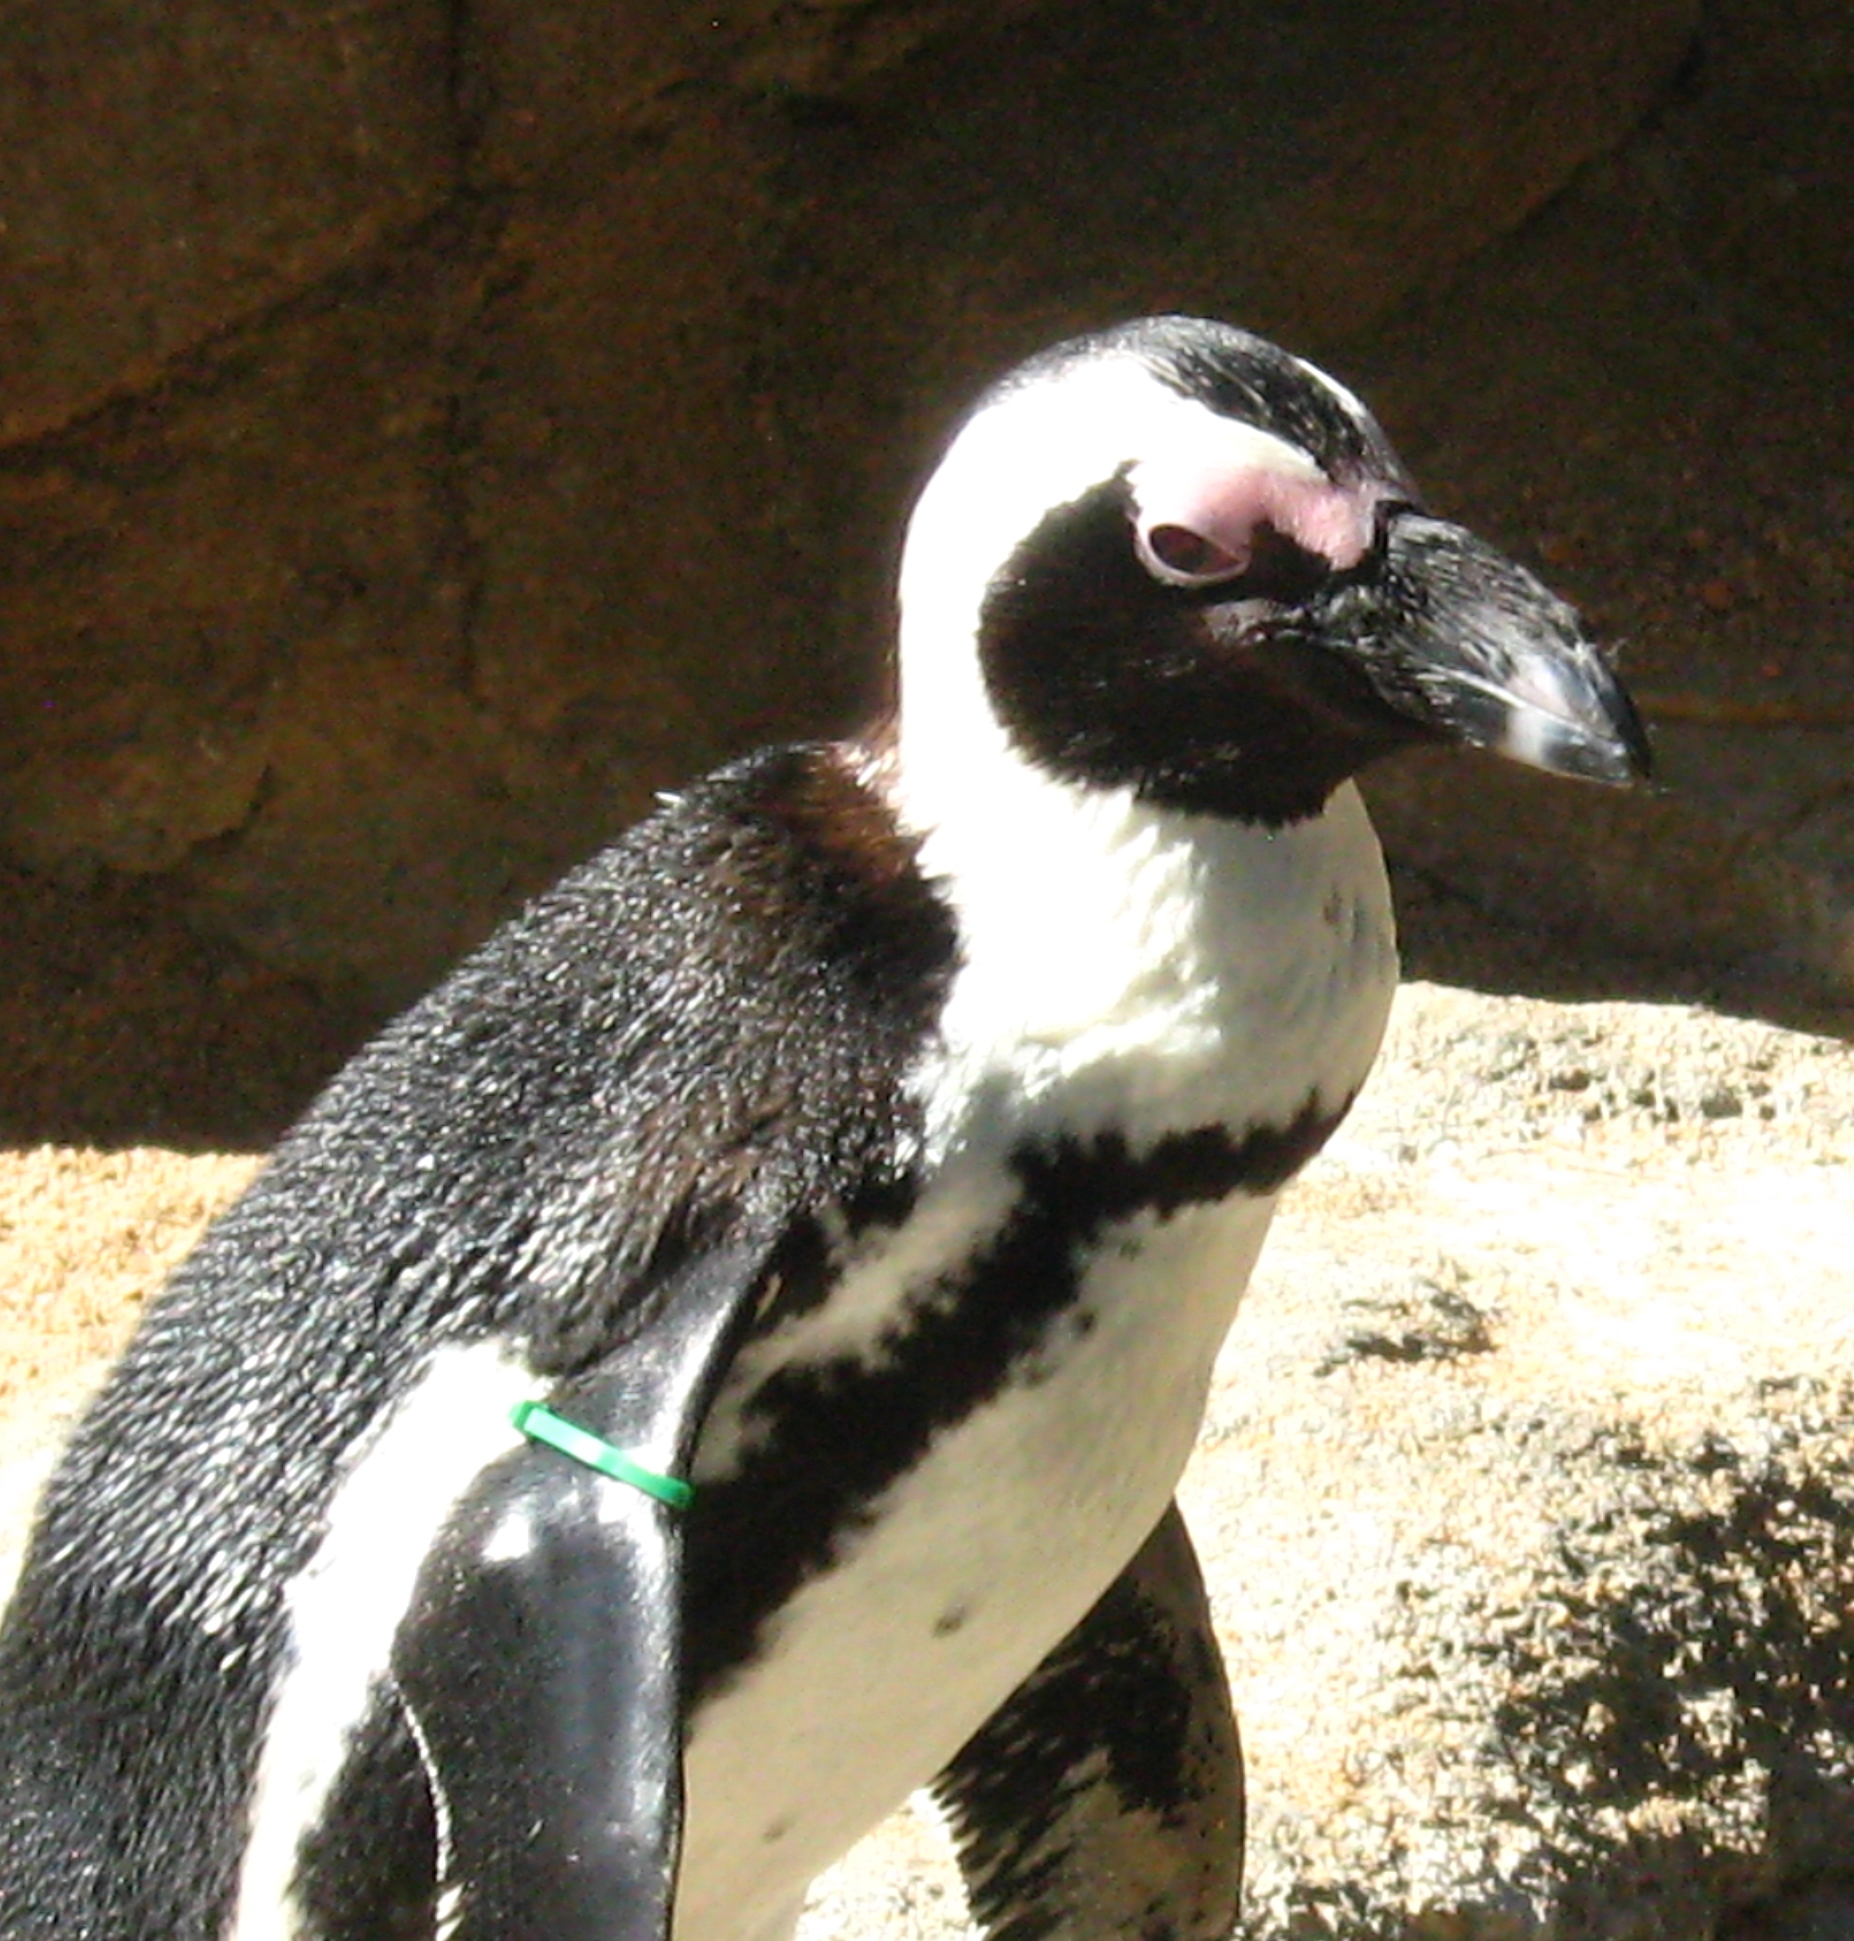penguin: (69, 312, 1665, 1941)
